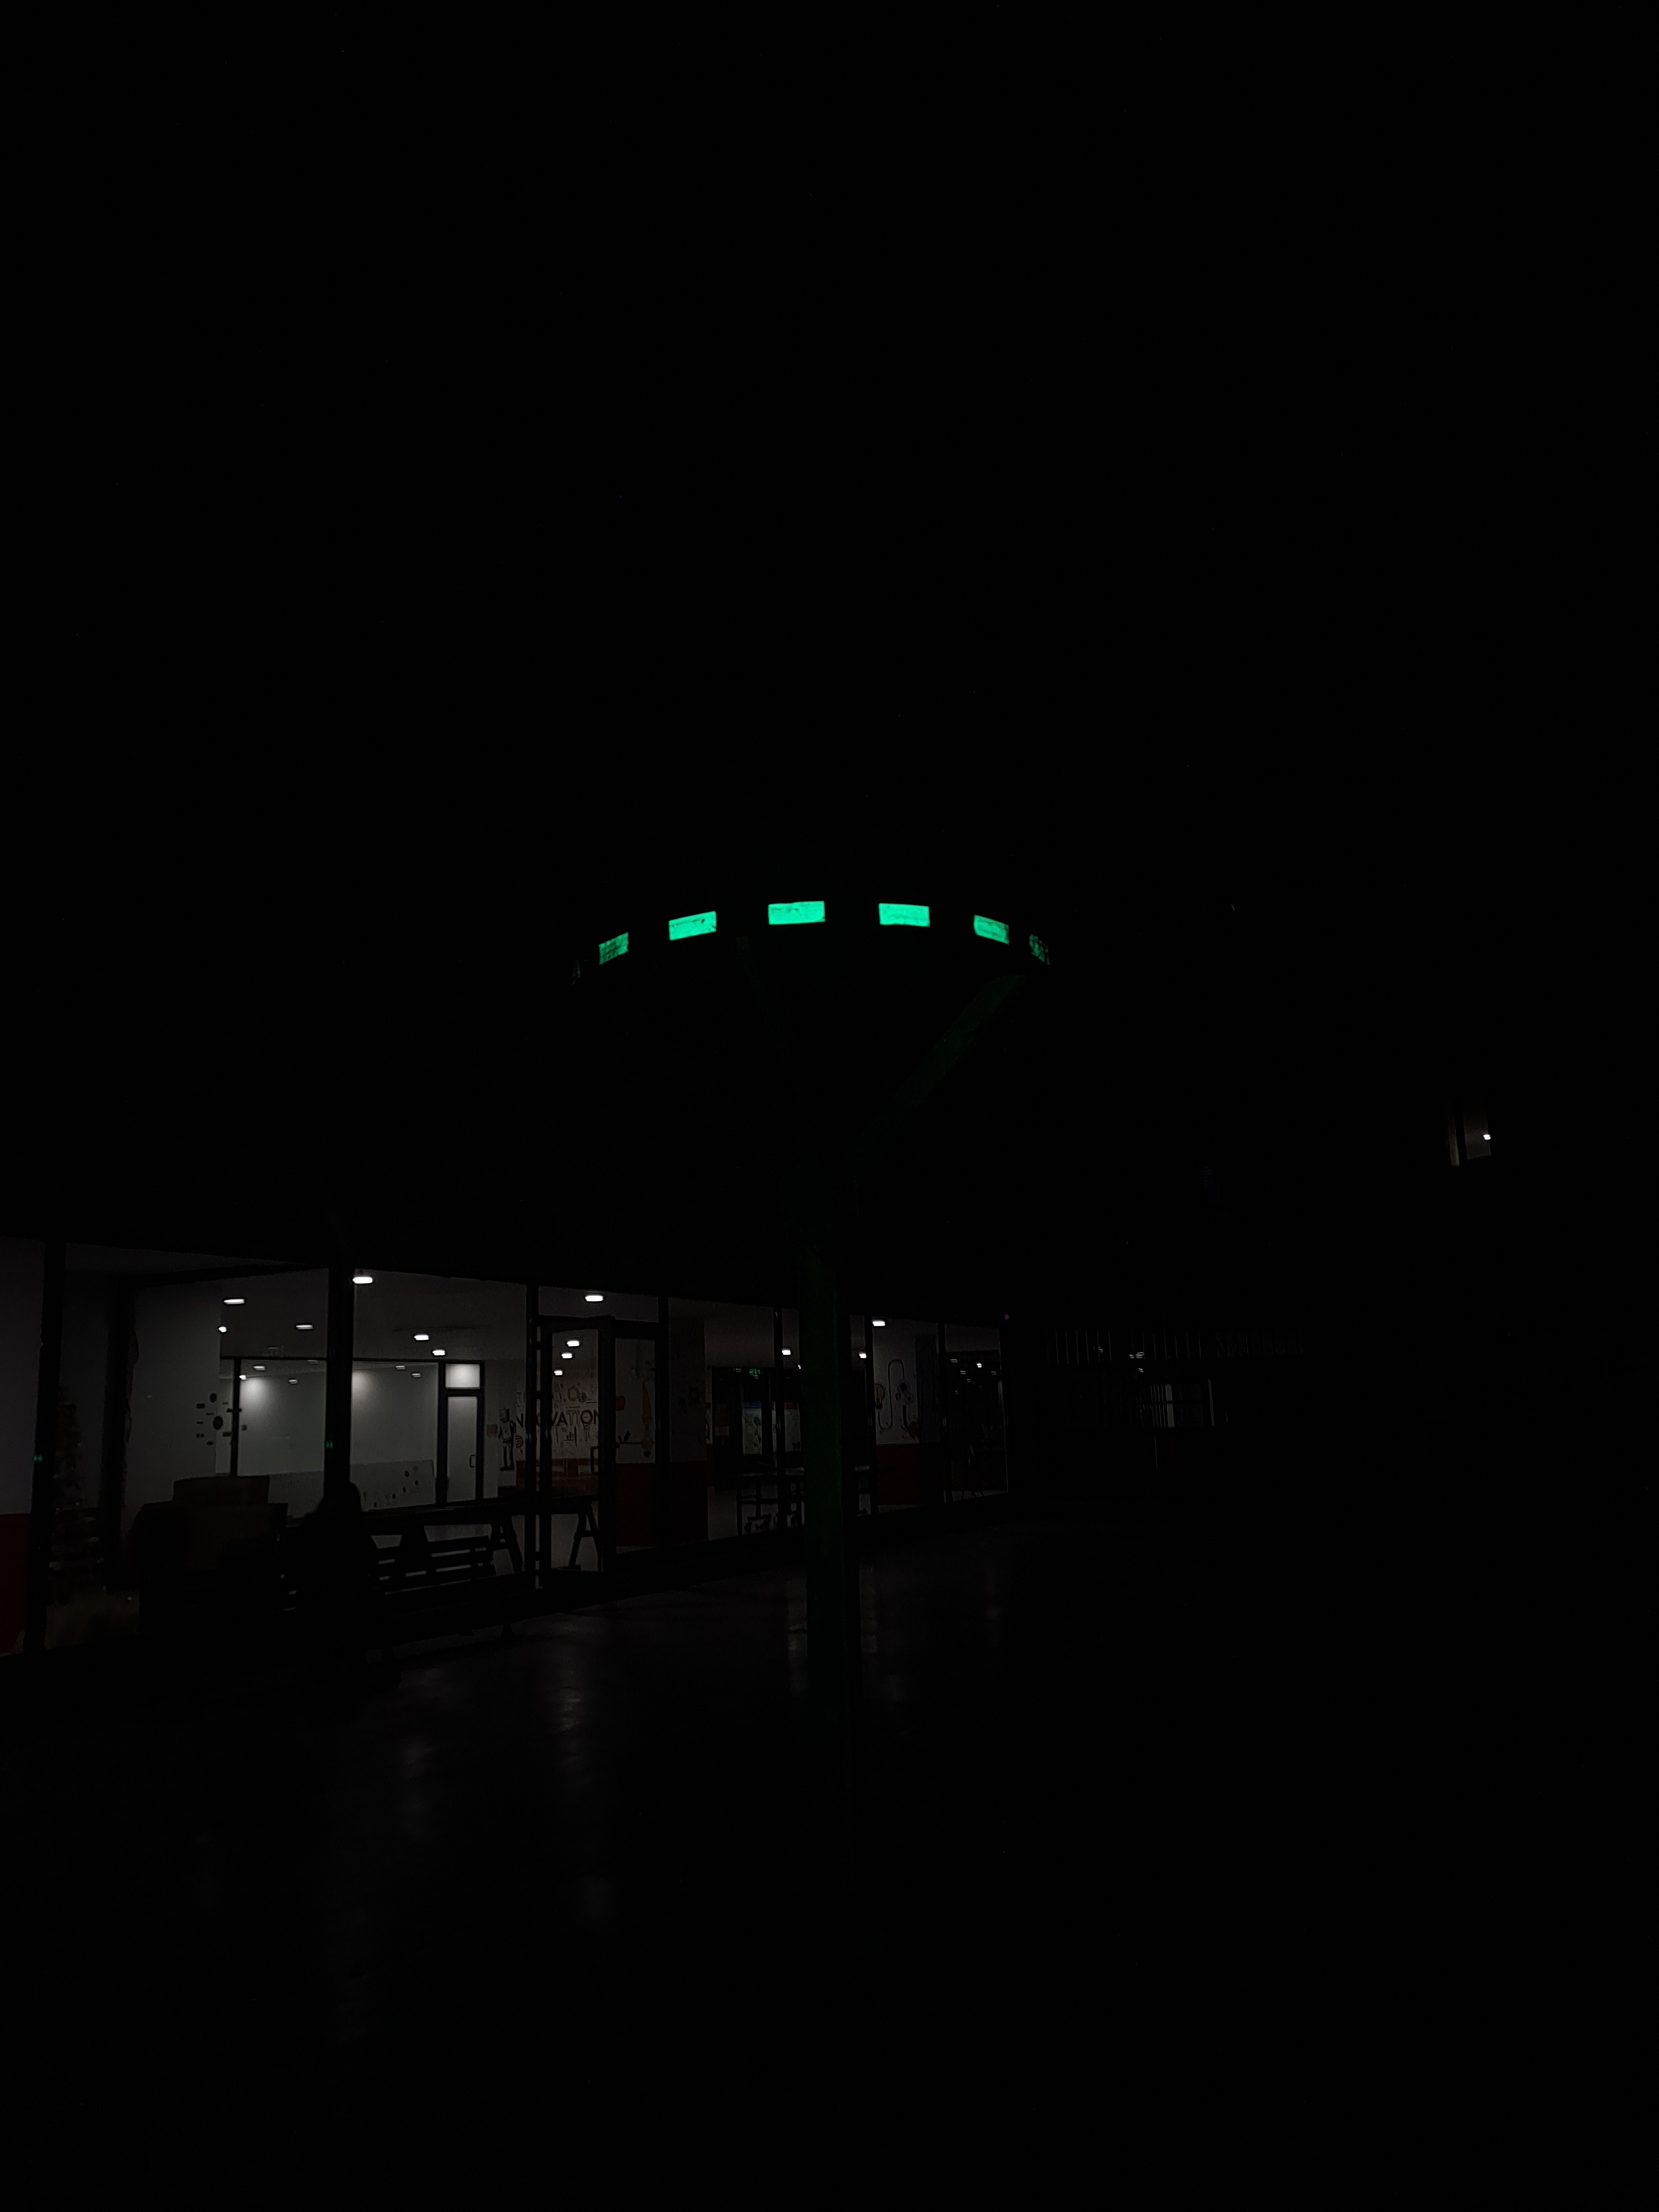hoop: (589, 888, 1058, 979)
